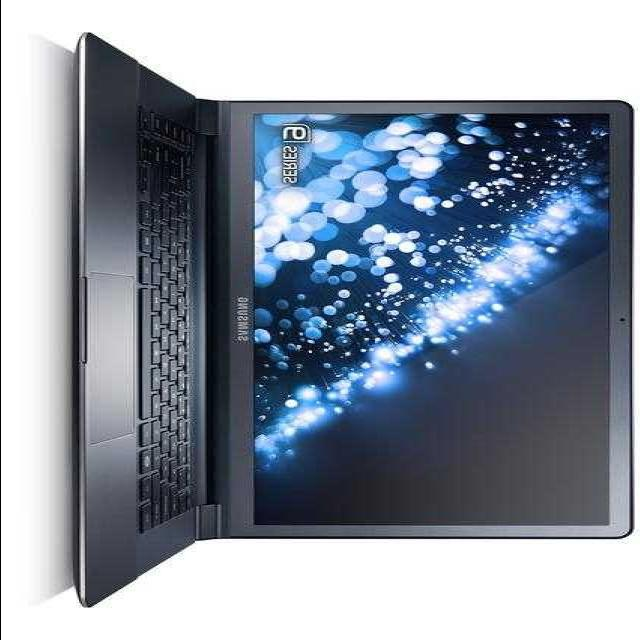laptop: (44, 32, 628, 584)
